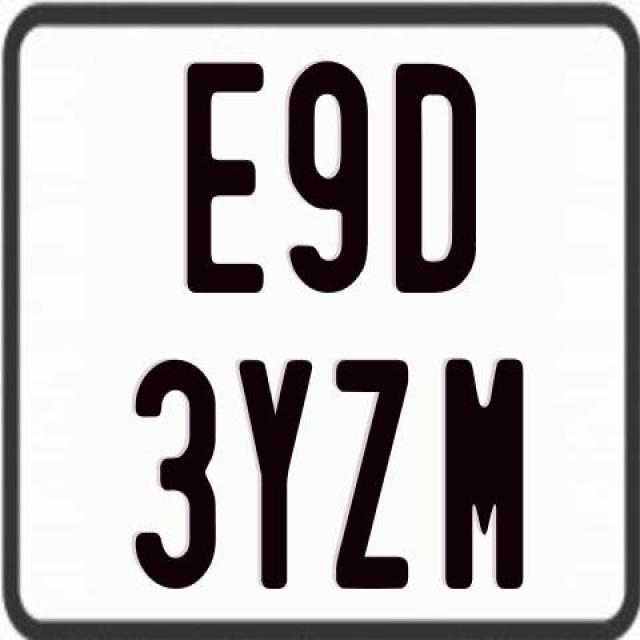3: (132, 360, 215, 595)
9: (286, 59, 371, 299)
D: (393, 59, 476, 298)
E: (182, 59, 266, 296)
M: (445, 354, 523, 594)
Y: (234, 361, 314, 594)
Z: (334, 361, 406, 594)
